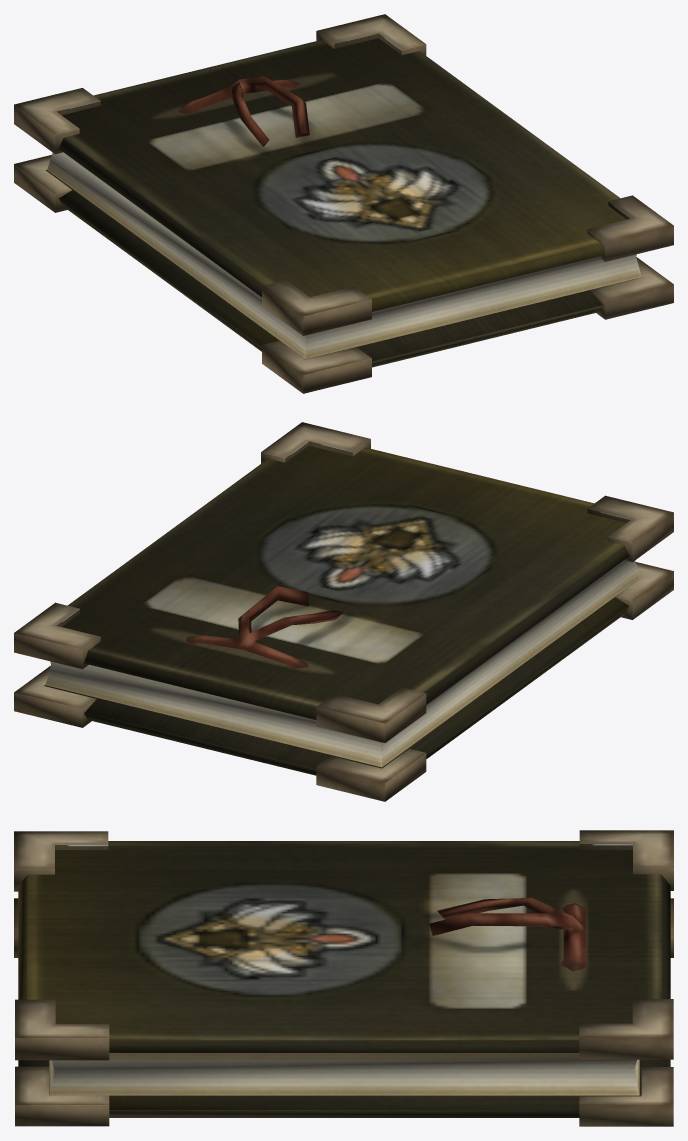
The model's file is a_SWAbook02A.glb.
3 views of the same model, one above another, from view 1: azimuth 30°, elevation 25°; view 2: azimuth 150°, elevation 25°; view 3: azimuth 270°, elevation 25° (orthographic). The views are drawn at different scales.
Visible parts, largest first — view 1: a_SWAbook02A; view 2: a_SWAbook02A; view 3: a_SWAbook02A.
Part boxes in pixels (x1,y1,x2,y2): a_SWAbook02A: (14, 14, 673, 393); a_SWAbook02A: (14, 422, 673, 801); a_SWAbook02A: (14, 830, 673, 1126).
Size of the model in its own units: 0.7409 by 0.194 by 0.9982.
2 materials, 2 textured.
